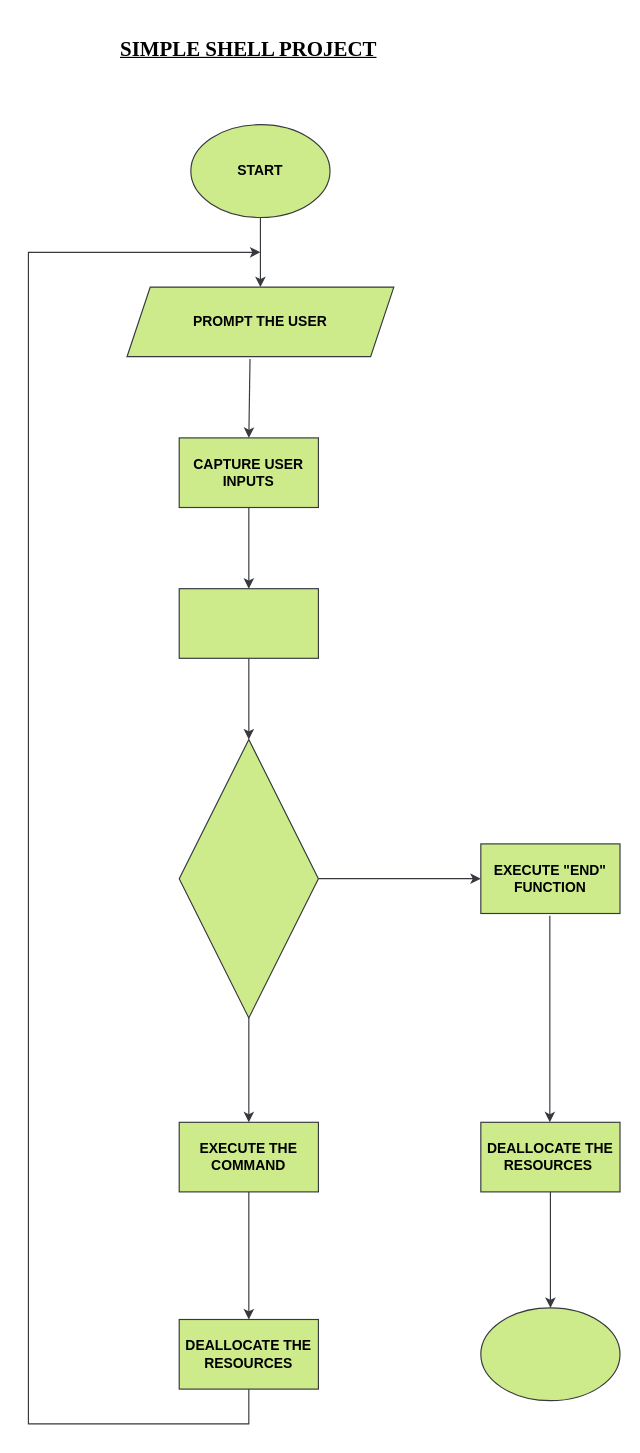
This 640x1453 diagram has some shape labels left out. Each missing label, with the centre of its shape:
IS USER INPUT SAME AS "EXIT"?: the point at 248,878
STOP: the point at 550,1354
TOKENIZE THE USER INPUTS: the point at 248,623
